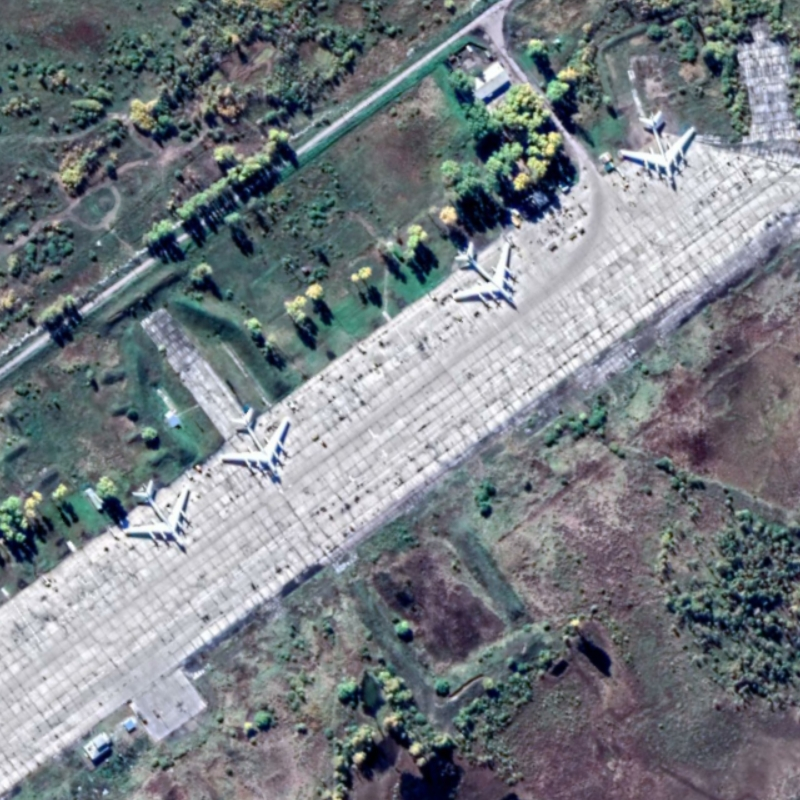A17: (617, 108, 697, 189), (220, 406, 290, 480), (122, 478, 192, 549), (451, 239, 517, 304)
